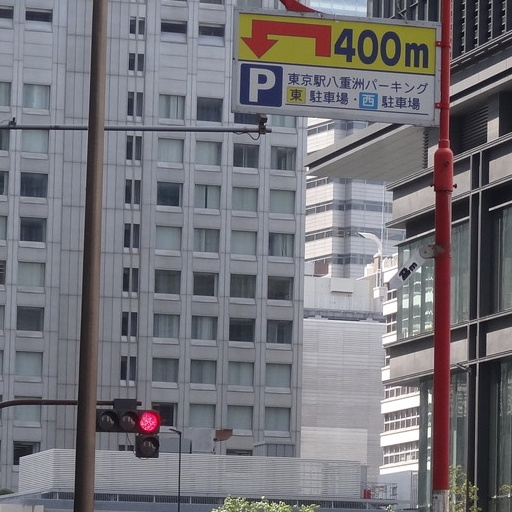Traffic_Signal_Red: (91, 404, 164, 436)
